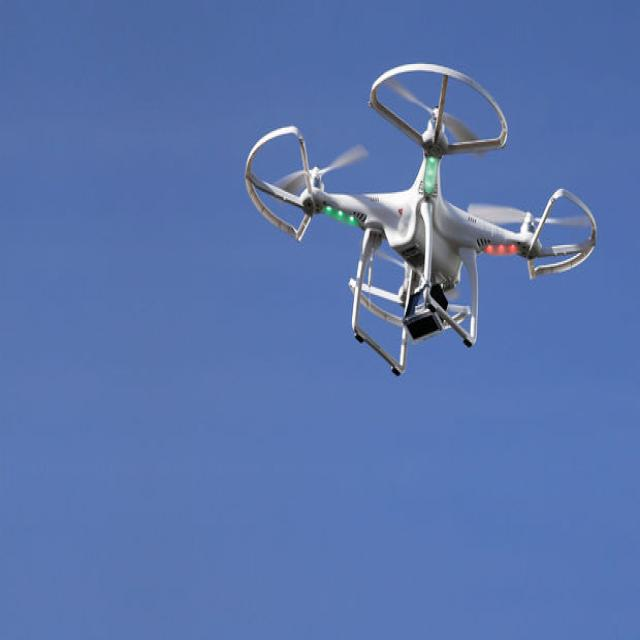drone: (238, 87, 596, 353)
